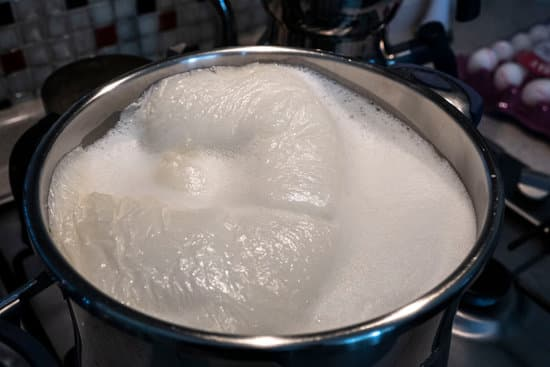Steaming: (26, 41, 507, 335)
